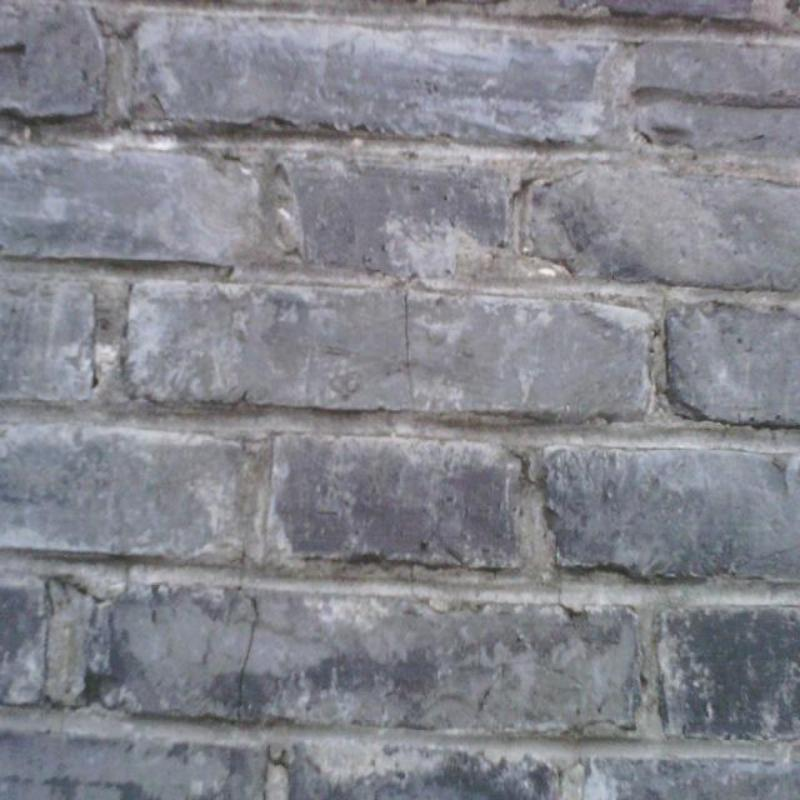crack: (238, 592, 261, 717), (404, 295, 411, 398), (267, 746, 290, 774)
